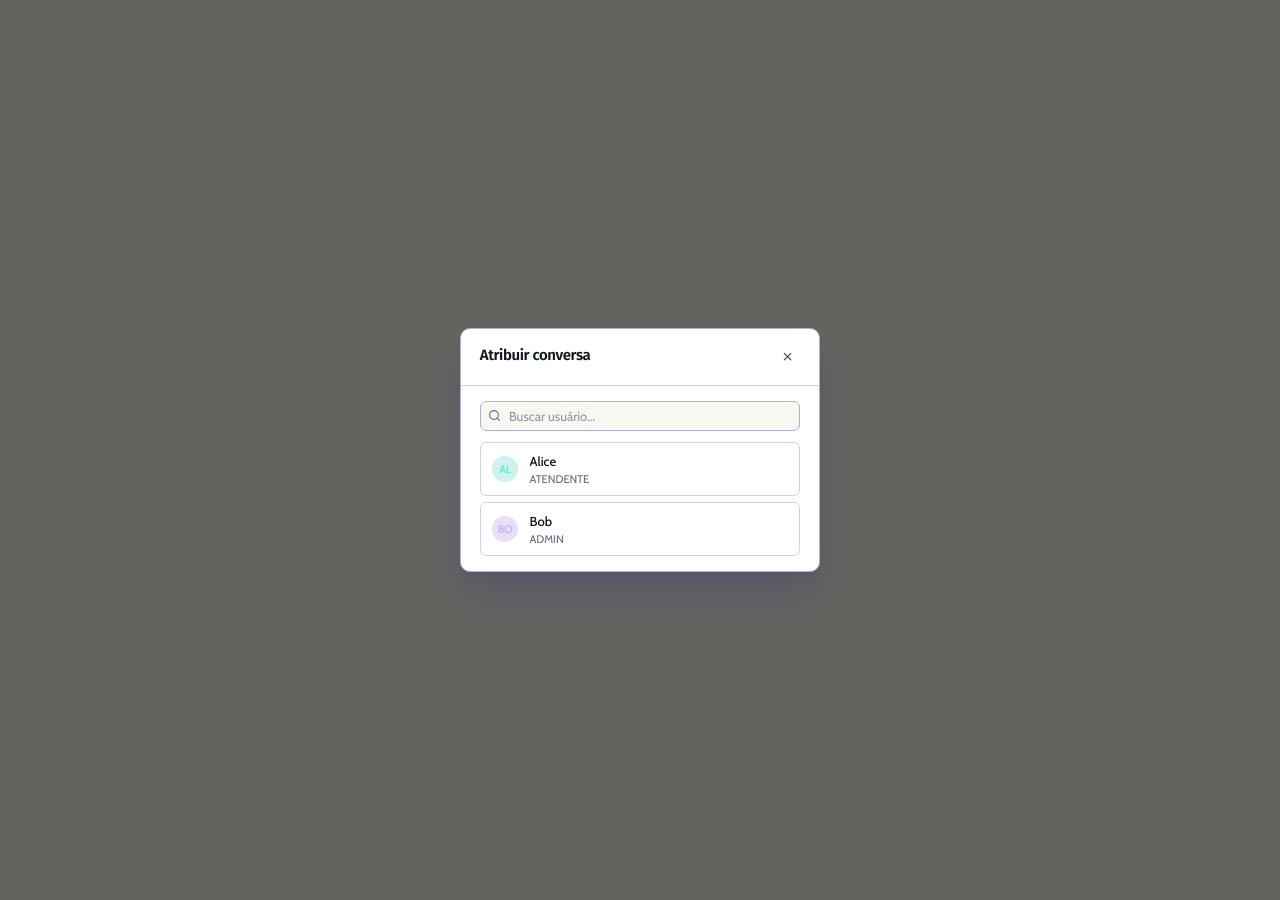
AtribuirModal › filtra usuários pelo campo de busca
The width and height of the screenshot is (1280, 900).
In the field with placeholder "Buscar usuário…": (650, 416) x1=509 y1=406 x2=792 y2=426, type "alice"
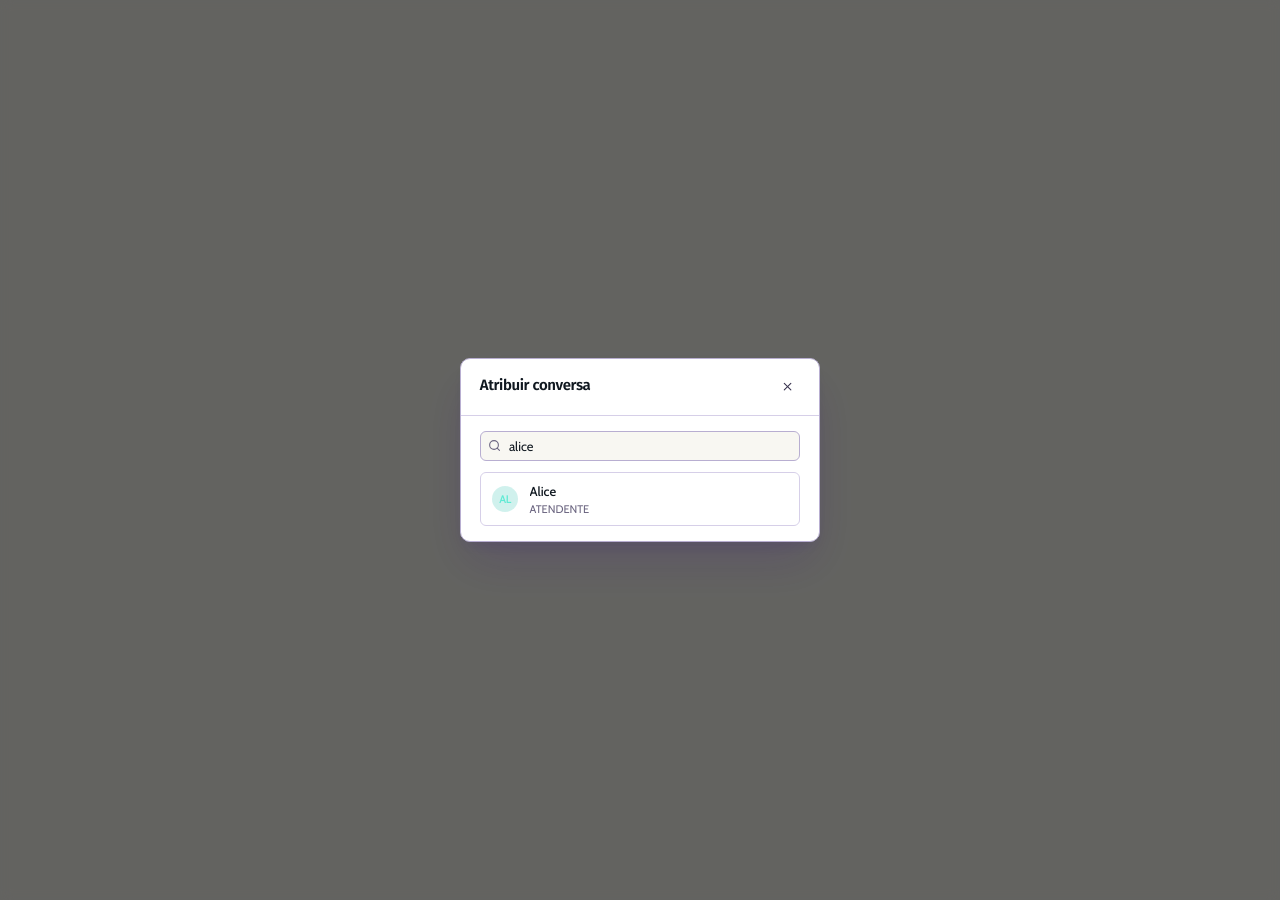
Expected: the button with test id "atribuir-user-u1" is shown, x1=480 y1=472 x2=800 y2=526
Expected: the button with test id "atribuir-user-u2" is gone
